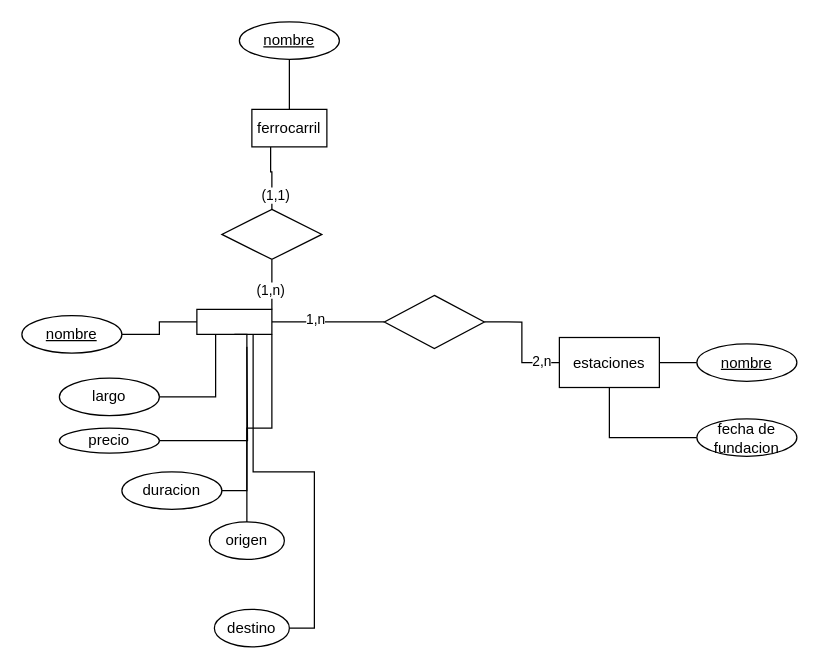
This 819x669 diagram has some shape labels left out. Each missing label, with the centre of its shape:
"compuesto por" belongs at (271,233).
"pertenece" belongs at (433,321).
"ramales" belongs at (234,321).
